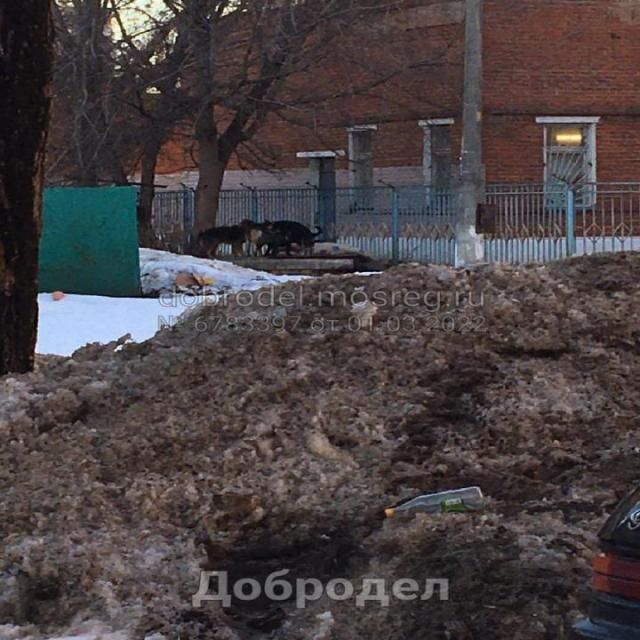dog: (197, 218, 250, 259), (266, 217, 322, 254), (253, 228, 293, 259)
